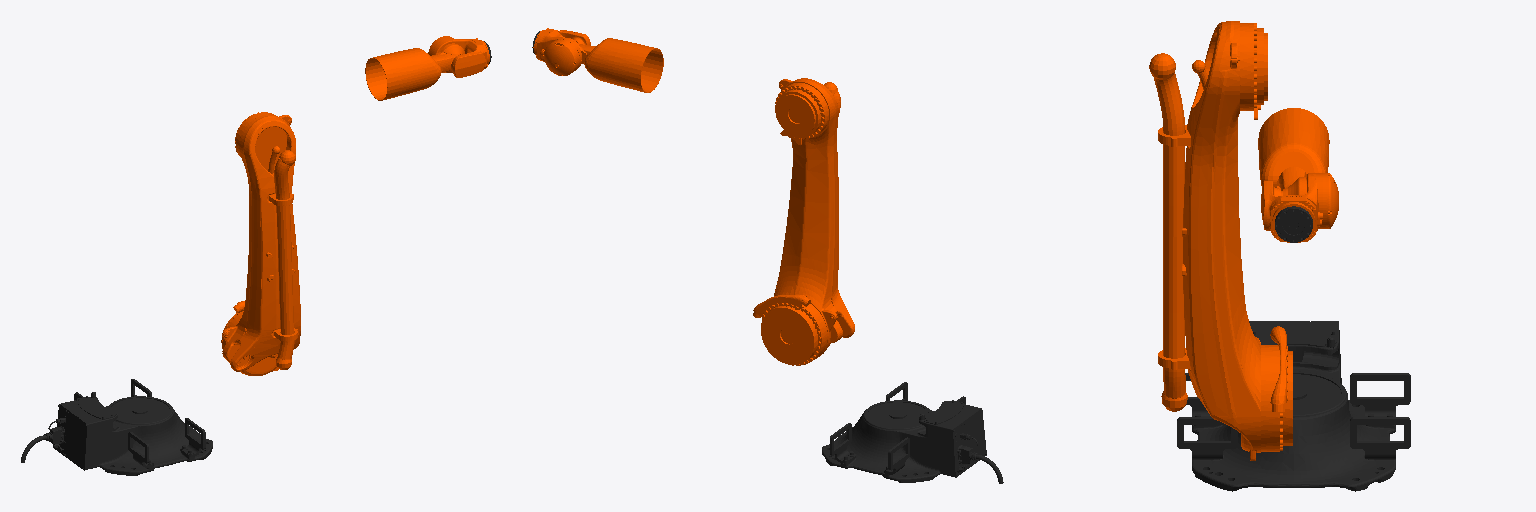
URDF robot description (kuka_kr_180_r3500_2_k):
<?xml version="1.0"?>
<robot name="kuka_kr_180_r3500_2_k">
  <material name="kuka_orange"><color rgba="1.00 0.40 0.00 1.0"/></material>
  <material name="kuka_dark_gray"><color rgba="0.20 0.20 0.20 1.0"/></material>

  <link name="base_link">
    <inertial>
      <origin xyz="-0.116290 0.000790 0.107813" rpy="0 0 0"/>
      <mass value="320.000"/>
      <inertia ixx="10.014878" ixy="0.068539" ixz="1.609264" iyy="14.847883" iyz="-0.031659" izz="21.088577"/>
    </inertial>
    <visual>
      <origin xyz="0 0 0" rpy="0 0 0"/>
      <geometry><mesh filename="meshes/visual/base_link.stl"/></geometry>
      <material name="kuka_dark_gray"/>
    </visual>
    <collision>
      <origin xyz="0 0 0" rpy="0 0 0"/>
      <geometry><mesh filename="meshes/visual/base_link.stl"/></geometry>
    </collision>
  </link>

  <link name="link_1">
    <inertial>
      <origin xyz="0.250206 -0.026108 0.454759" rpy="0 0 0"/>
      <mass value="420.000"/>
      <inertia ixx="17.476226" ixy="-2.264853" ixz="2.476194" iyy="40.278195" iyz="-0.222689" izz="37.586290"/>
    </inertial>
    <visual>
      <origin xyz="0 0 0" rpy="0 0 0"/>
      <geometry><mesh filename="meshes/visual/link_1.stl"/></geometry>
      <material name="kuka_orange"/>
    </visual>
    <collision>
      <origin xyz="0 0 0" rpy="0 0 0"/>
      <geometry><mesh filename="meshes/visual/link_1.stl"/></geometry>
    </collision>
  </link>

  <link name="link_2">
    <inertial>
      <origin xyz="-0.001469 -0.264770 0.593578" rpy="0 0 0"/>
      <mass value="520.000"/>
      <inertia ixx="90.897431" ixy="-0.080792" ixz="-0.423486" iyy="88.645673" iyz="5.190809" izz="9.736850"/>
    </inertial>
    <visual>
      <origin xyz="0 0 0" rpy="0 0 0"/>
      <geometry><mesh filename="meshes/visual/link_2.stl"/></geometry>
      <material name="kuka_orange"/>
    </visual>
    <collision>
      <origin xyz="0 0 0" rpy="0 0 0"/>
      <geometry><mesh filename="meshes/visual/link_2.stl"/></geometry>
    </collision>
  </link>

  <link name="link_3">
    <inertial>
      <origin xyz="0.253291 -0.016273 0.153817" rpy="0 0 0"/>
      <mass value="400.000"/>
      <inertia ixx="9.668442" ixy="0.964599" ixz="-1.405286" iyy="33.802902" iyz="-0.888098" izz="35.220685"/>
    </inertial>
    <visual>
      <origin xyz="0 0 0" rpy="0 0 0"/>
      <geometry><mesh filename="meshes/visual/link_3.stl"/></geometry>
      <material name="kuka_orange"/>
    </visual>
    <collision>
      <origin xyz="0 0 0" rpy="0 0 0"/>
      <geometry><mesh filename="meshes/visual/link_3.stl"/></geometry>
    </collision>
  </link>

  <link name="link_4">
    <inertial>
      <origin xyz="-0.276032 0.002243 0.000033" rpy="0 0 0"/>
      <mass value="90.000"/>
      <inertia ixx="0.717734" ixy="-0.035539" ixz="-0.000207" iyy="1.690576" iyz="0.000015" izz="1.694642"/>
    </inertial>
    <visual>
      <origin xyz="0 0 0" rpy="0 0 0"/>
      <geometry><mesh filename="meshes/visual/link_4.stl"/></geometry>
      <material name="kuka_orange"/>
    </visual>
    <collision>
      <origin xyz="0 0 0" rpy="0 0 0"/>
      <geometry><mesh filename="meshes/visual/link_4.stl"/></geometry>
    </collision>
  </link>

  <link name="link_5">
    <inertial>
      <origin xyz="0.059887 0.023536 -0.000304" rpy="0 0 0"/>
      <mass value="80.000"/>
      <inertia ixx="0.585736" ixy="0.081796" ixz="-0.001558" iyy="0.591250" iyz="-0.001238" izz="0.789609"/>
    </inertial>
    <visual>
      <origin xyz="0 0 0" rpy="0 0 0"/>
      <geometry><mesh filename="meshes/visual/link_5.stl"/></geometry>
      <material name="kuka_orange"/>
    </visual>
    <collision>
      <origin xyz="0 0 0" rpy="0 0 0"/>
      <geometry><mesh filename="meshes/visual/link_5.stl"/></geometry>
    </collision>
  </link>

  <link name="link_6">
    <inertial>
      <origin xyz="-0.019835 -0.000057 -0.000239" rpy="0 0 0"/>
      <mass value="50.000"/>
      <inertia ixx="0.146192" ixy="0.000025" ixz="0.000040" iyy="0.105470" iyz="0.000146" izz="0.106890"/>
    </inertial>
    <visual>
      <origin xyz="0 0 0" rpy="0 0 0"/>
      <geometry><mesh filename="meshes/visual/link_6.stl"/></geometry>
      <material name="kuka_dark_gray"/>
    </visual>
    <collision>
      <origin xyz="0 0 0" rpy="0 0 0"/>
      <geometry><mesh filename="meshes/visual/link_6.stl"/></geometry>
    </collision>
  </link>

  <link name="tool0"/>

  <joint name="joint_a1" type="revolute">
    <parent link="base_link"/>
    <child link="link_1"/>
    <origin xyz="0.000000 0.000000 0.000000" rpy="0 0 0"/>
    <axis xyz="0.0 0.0 -1.0"/>
    <limit lower="-3.228859" upper="3.228859" effort="13000.0" velocity="3.000000"/>
    <dynamics damping="5.0" friction="1.0"/>
  </joint>

  <joint name="joint_a2" type="revolute">
    <parent link="link_1"/>
    <child link="link_2"/>
    <origin xyz="0.730000 0.000000 0.550000" rpy="0 0 0"/>
    <axis xyz="0.0 1.0 0.0"/>
    <limit lower="-0.523599" upper="2.792527" effort="15000.0" velocity="3.000000"/>
    <dynamics damping="5.0" friction="1.0"/>
  </joint>

  <joint name="joint_a3" type="revolute">
    <parent link="link_2"/>
    <child link="link_3"/>
    <origin xyz="0.000000 0.000000 1.350000" rpy="0 0 0"/>
    <axis xyz="0.0 1.0 0.0"/>
    <limit lower="-3.665191" upper="1.361357" effort="10000.0" velocity="3.000000"/>
    <dynamics damping="5.0" friction="1.0"/>
  </joint>

  <joint name="joint_a4" type="revolute">
    <parent link="link_3"/>
    <child link="link_4"/>
    <origin xyz="1.420000 0.000000 0.115000" rpy="0 0 0"/>
    <axis xyz="-1.0 0.0 -0.0"/>
    <limit lower="-6.108652" upper="6.108652" effort="4000.0" velocity="3.000000"/>
    <dynamics damping="5.0" friction="1.0"/>
  </joint>

  <joint name="joint_a5" type="revolute">
    <parent link="link_4"/>
    <child link="link_5"/>
    <origin xyz="0.000000 0.000000 0.000000" rpy="0 0 0"/>
    <axis xyz="0.0 1.0 0.0"/>
    <limit lower="-2.181662" upper="2.181662" effort="2800.0" velocity="3.000000"/>
    <dynamics damping="5.0" friction="1.0"/>
  </joint>

  <joint name="joint_a6" type="revolute">
    <parent link="link_5"/>
    <child link="link_6"/>
    <origin xyz="0.215000 0.000000 0.000000" rpy="0 0 0"/>
    <axis xyz="-1.0 0.0 -0.0"/>
    <limit lower="-6.108652" upper="6.108652" effort="1700.0" velocity="3.000000"/>
    <dynamics damping="5.0" friction="1.0"/>
  </joint>

  <joint name="link_6-tool0" type="fixed">
    <parent link="link_6"/>
    <child link="tool0"/>
    <origin xyz="0.000000 0.000000 0.000000" rpy="0 1.57079632679 0"/>
  </joint>
</robot>

--- What the picture shows (computed from the rendered views, not written in the file) ---
Views: 3 orthographic renders of the robot side by side, from view 1: azimuth 30°, elevation 25°; view 2: azimuth 150°, elevation 25°; view 3: azimuth 270°, elevation 25°.
Robot: kuka_kr_180_r3500_2_k — 8 links, 7 joints (6 revolute, 1 fixed); root link base_link; default pose: all joints at 0.
Visible links, largest first — view 1: link_2, base_link, link_4, link_5; view 2: link_2, base_link, link_4, link_5; view 3: link_2, base_link, link_4, link_5, link_6.
Link boxes in pixels (x1,y1,x2,y2): link_2: (221,112,300,375); base_link: (21,379,212,475); link_4: (365,43,464,100); link_5: (428,36,489,77); link_2: (753,78,854,365); base_link: (822,382,1003,483); link_4: (568,38,663,92); link_5: (533,28,590,75); link_2: (1149,21,1292,460); base_link: (1177,321,1410,491); link_4: (1258,108,1329,195); link_5: (1261,173,1338,242); link_6: (1275,206,1312,242).
Size in the robot's own frame: 3.12 by 0.9646 by 2.15 metres.
5 mesh visuals loaded from 7 distinct referenced files (5 binary STL); not drawn: 2 (reference not matched to a file when rendering).
